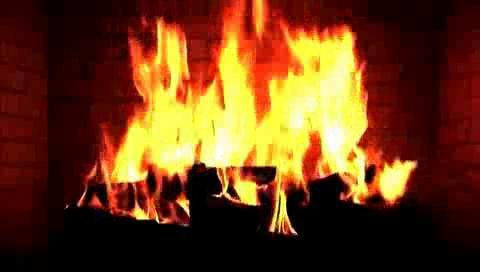fire: (104, 22, 383, 221)
